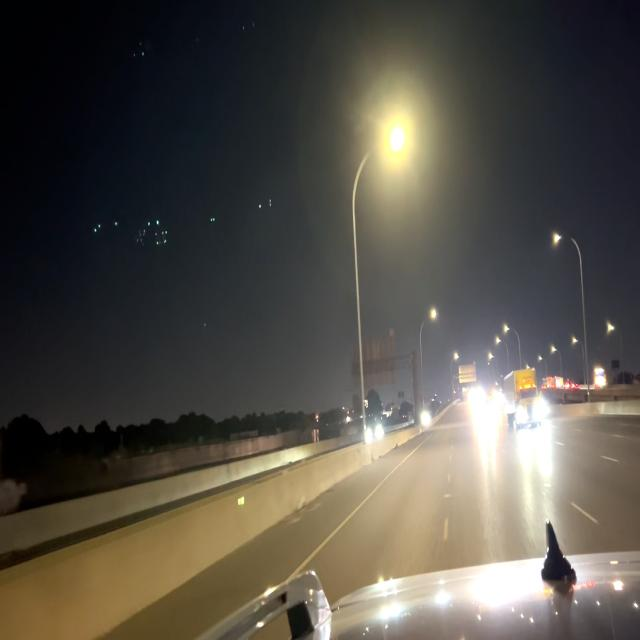back-of-sign: (352, 329, 398, 388), (458, 358, 478, 386)
